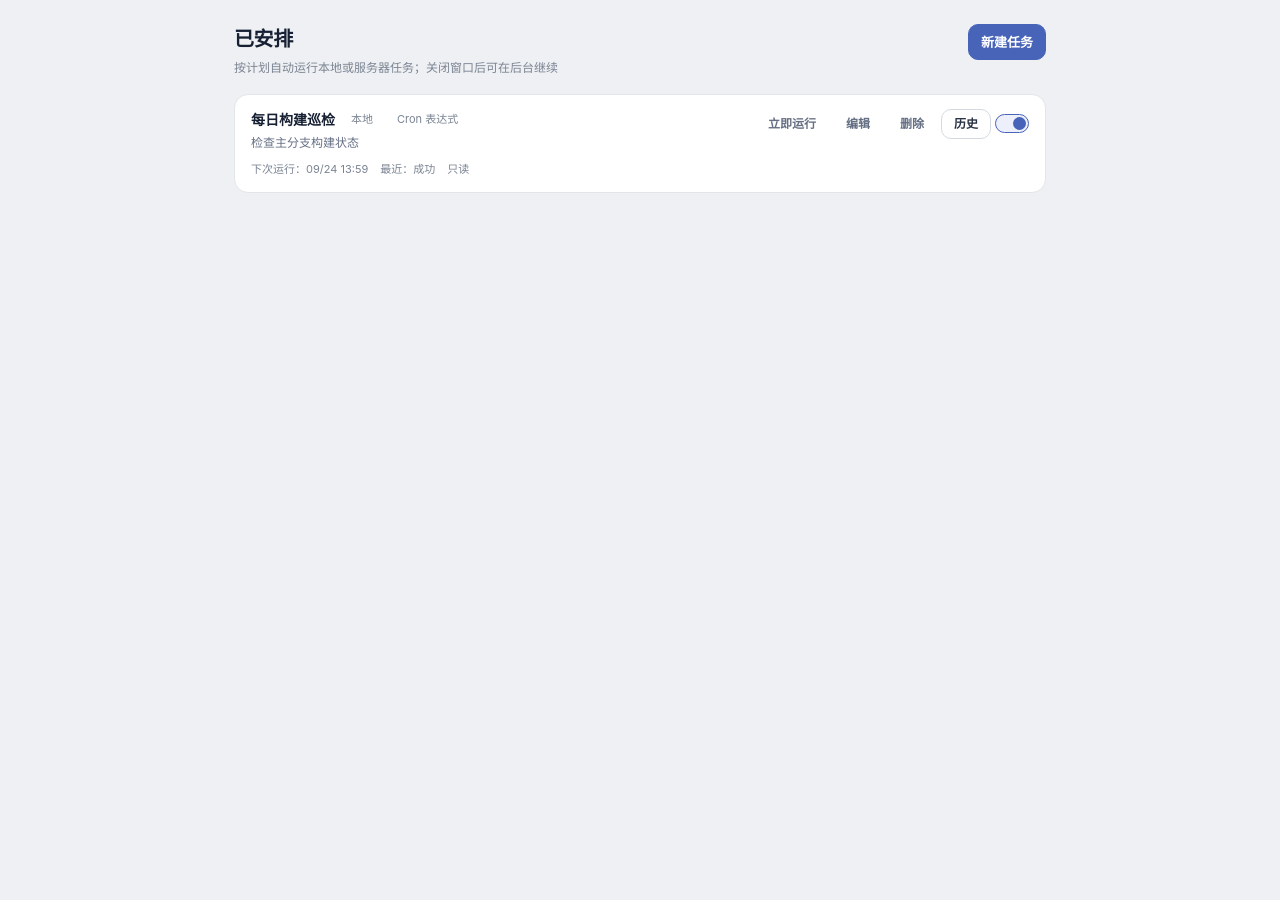
Scenario: ScheduledTasks 执行历史 › shows an empty hint when a task has no runs
Click the button "历史". click: (966, 124)
box: [941,109,991,139]
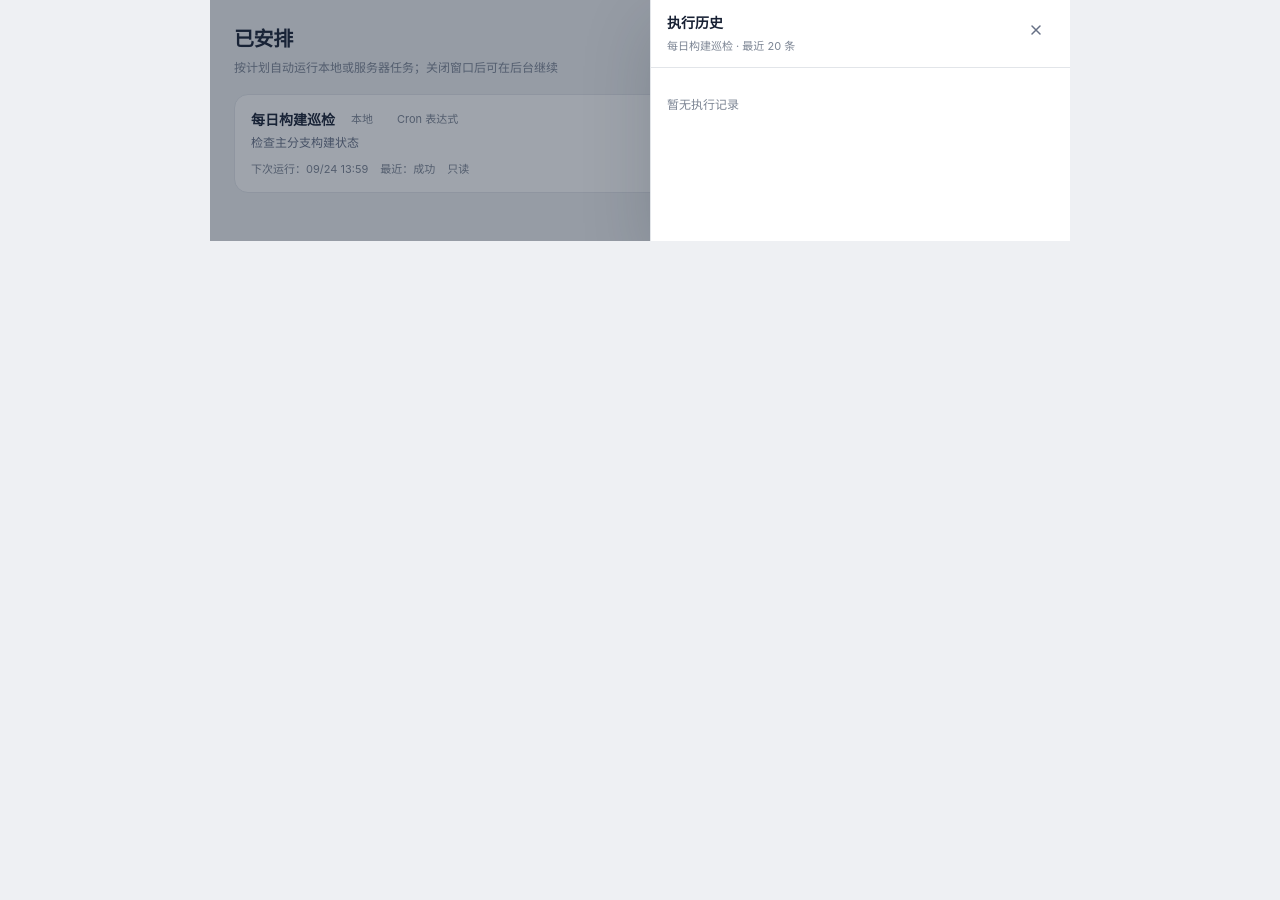
Expected: the dialog shows "暂无执行记录", [667,97,739,112]
